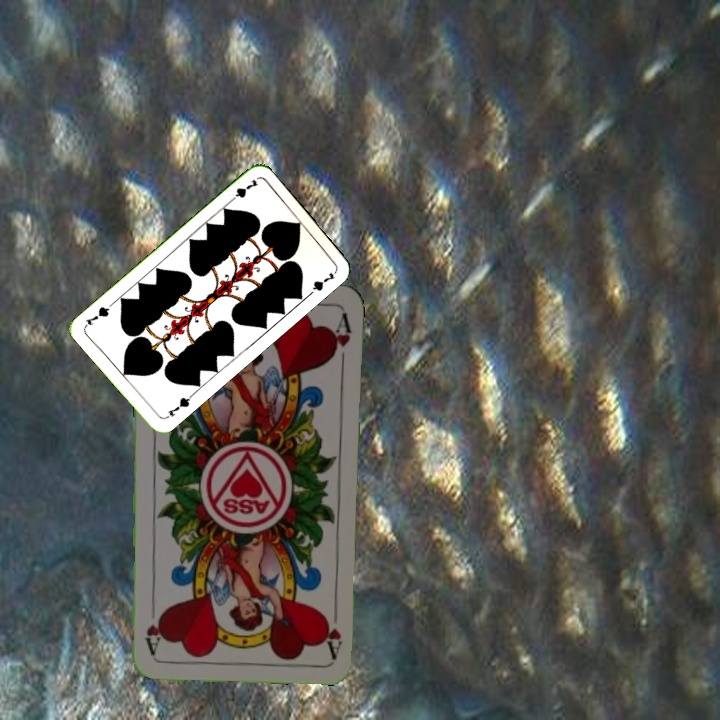G7: (225, 175, 261, 206), (163, 390, 195, 419)
HA: (321, 600, 345, 659)
